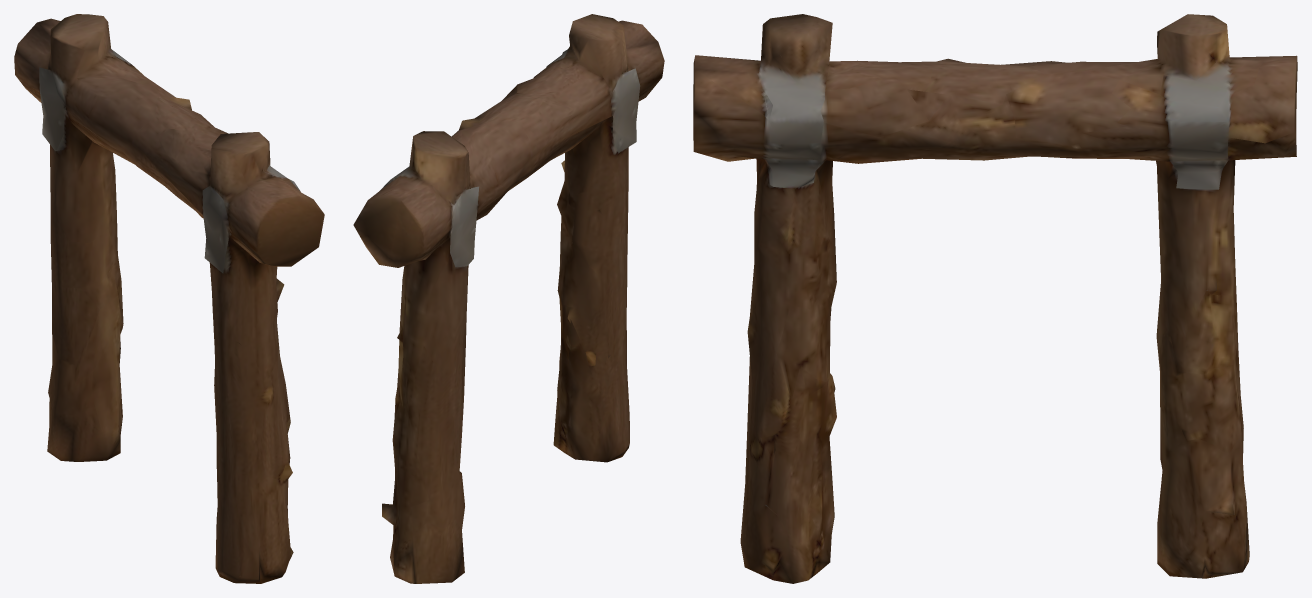
The model's file is mine_timber.00405e9ff8.glb.
3 renders of one model, left to right at view 1: azimuth 30°, elevation 25°; view 2: azimuth 150°, elevation 25°; view 3: azimuth 270°, elevation 25°, orthographic. The views are drawn at different scales.
Visible parts, largest first — view 1: mine_timber; view 2: mine_timber; view 3: mine_timber.
Boxes of the visible parts, left/top/right/bottom form: mine_timber: left=14, top=14, right=324, bottom=583; mine_timber: left=353, top=14, right=664, bottom=583; mine_timber: left=693, top=14, right=1297, bottom=583.
Size of the model in its own units: 0.6562 by 3.33 by 3.4.
1 material, 1 textured.
